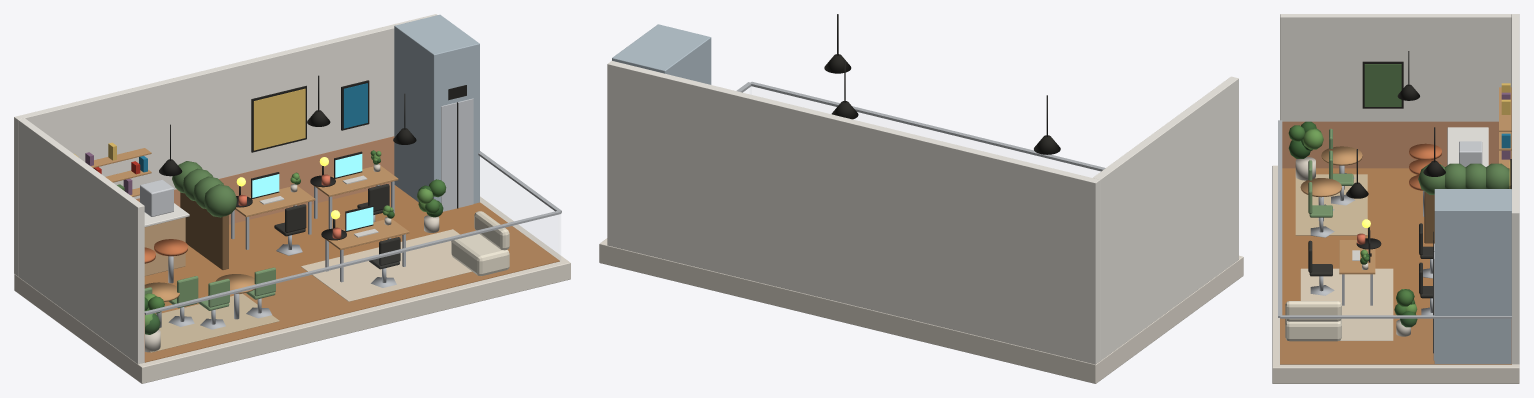
3 renders of one model, left to right at view 1: azimuth 30°, elevation 25°; view 2: azimuth 150°, elevation 25°; view 3: azimuth 270°, elevation 25°, orthographic. The views are drawn at different scales.
Visible parts, largest first — view 1: LM_PB, Cube.068, Cube.046, Cube.057; view 2: LM_PB; view 3: LM_PB.
Part boxes in pixels (x1,y1,x2,y2): LM_PB: [14, 14, 570, 383]; Cube.068: [346, 207, 373, 230]; Cube.046: [252, 174, 279, 197]; Cube.057: [335, 154, 362, 177]; LM_PB: [599, 14, 1243, 383]; LM_PB: [1272, 14, 1519, 383].
Size of the model in its own units: 9.3 by 3.8 by 4.8.
